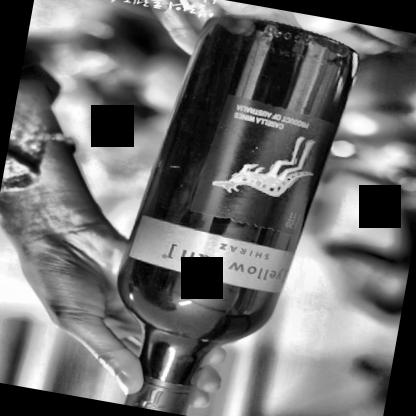yellowtail: (139, 75, 323, 298)
